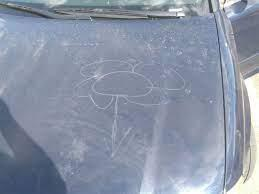bonnet-dent: (0, 12, 238, 193)
